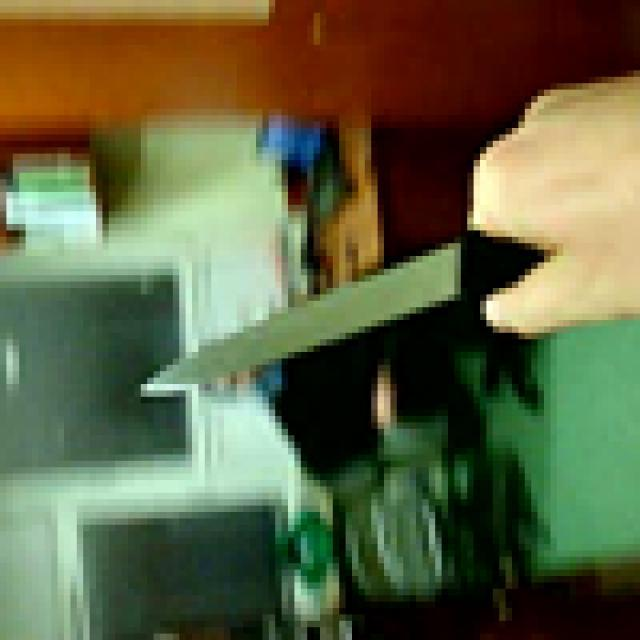Knife: (141, 230, 557, 410)
